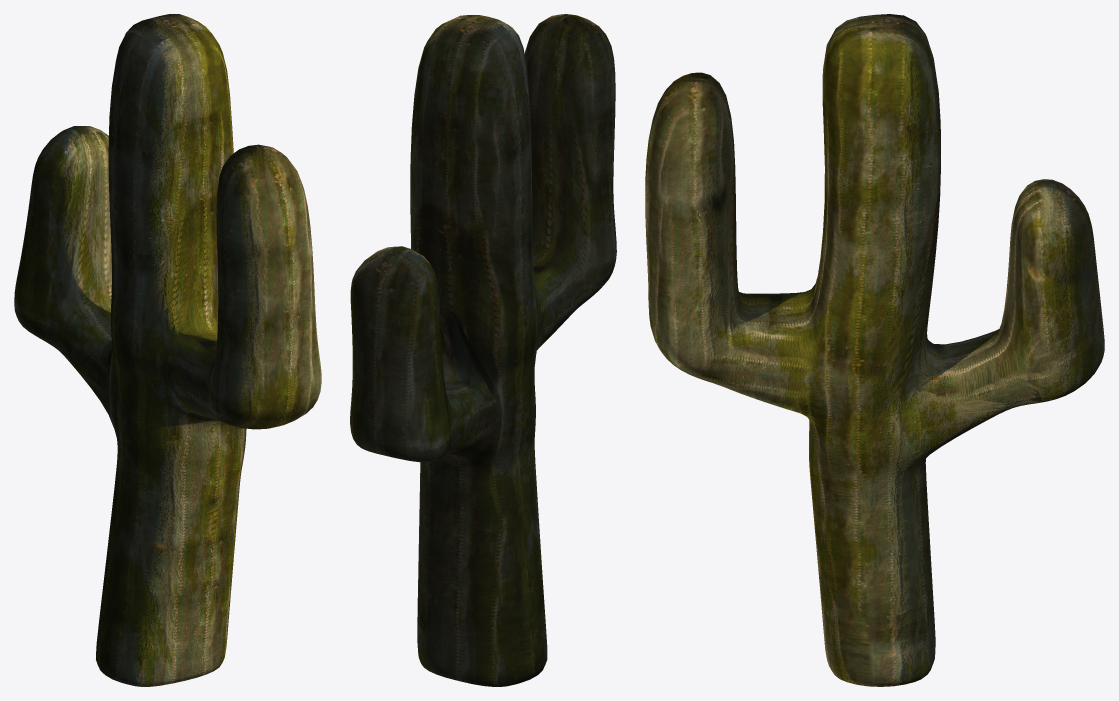
Rendered from cactus.fbx.
The picture shows the model from 3 angles, left to right: view 1: azimuth 30°, elevation 25°; view 2: azimuth 150°, elevation 25°; view 3: azimuth 270°, elevation 25°; orthographic projection.
Visible parts, largest first — view 1: cactus; view 2: cactus; view 3: cactus.
Boxes of the visible parts, x1,y1,x2,y2 form: cactus: (14, 14, 321, 686); cactus: (350, 14, 616, 686); cactus: (645, 14, 1104, 686).
Bounding box in the file's own units: 64.28 × 298 × 192.
